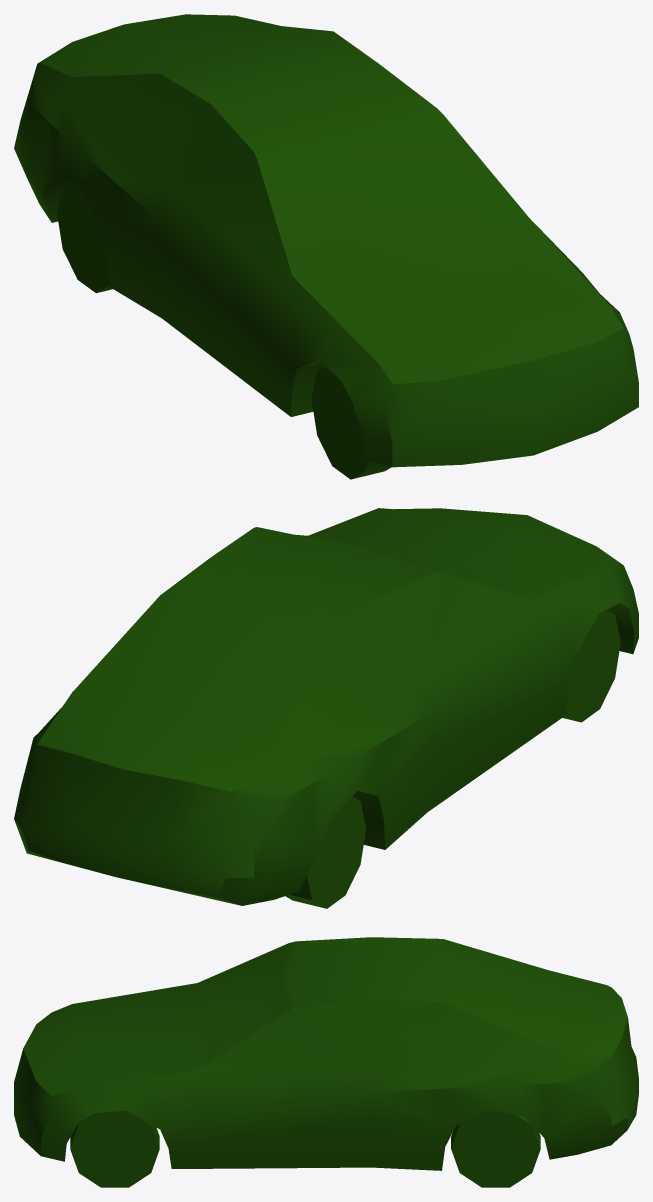
File: Vehicle01B.fbx
3 views of the same model, one above another, from view 1: azimuth 30°, elevation 25°; view 2: azimuth 150°, elevation 25°; view 3: azimuth 270°, elevation 25° (orthographic). The views are drawn at different scales.
Visible parts, largest first — view 1: Vehicle01B; view 2: Vehicle01B; view 3: Vehicle01B.
Part boxes in pixels (left/top/right/bottom): Vehicle01B: left=14, top=14, right=638, bottom=479; Vehicle01B: left=14, top=508, right=638, bottom=908; Vehicle01B: left=14, top=937, right=638, bottom=1187.
Bounding box in the file's own units: 1.77 × 1.41 × 4.55.
